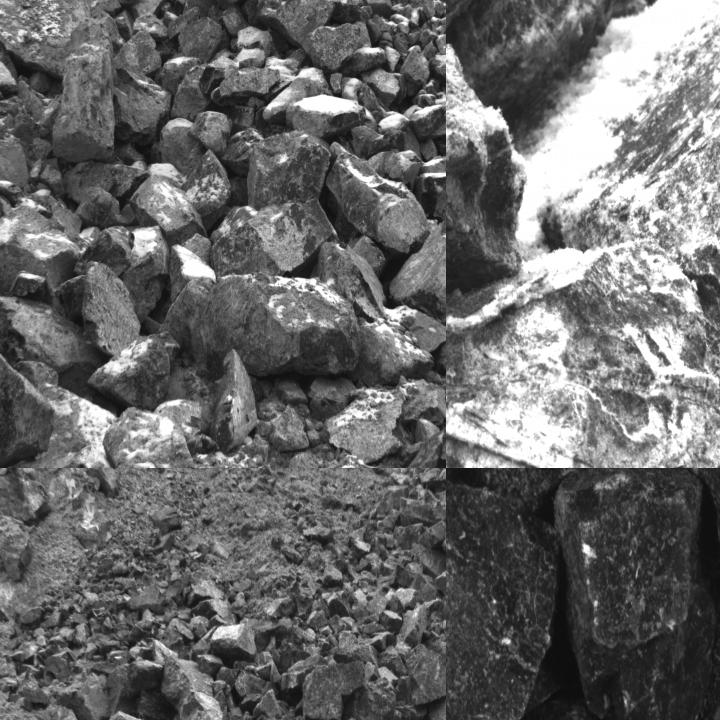stone: (544, 0, 719, 467), (446, 264, 719, 467), (552, 468, 717, 719), (446, 468, 561, 719), (446, 0, 531, 323), (446, 0, 645, 104), (159, 278, 361, 379), (0, 169, 56, 467), (325, 141, 430, 263), (52, 14, 124, 163), (211, 200, 335, 276), (0, 208, 83, 297), (84, 334, 178, 408), (247, 131, 332, 210), (446, 468, 596, 512), (388, 221, 445, 331), (82, 261, 140, 356), (131, 175, 207, 247), (206, 349, 259, 445), (446, 691, 610, 719), (302, 660, 376, 719), (160, 654, 227, 719), (114, 68, 170, 144), (171, 58, 237, 122), (285, 95, 376, 141), (184, 151, 231, 231), (256, 0, 335, 47), (264, 67, 330, 121), (306, 22, 373, 75), (63, 162, 148, 202), (75, 228, 134, 276), (54, 672, 114, 719), (166, 243, 214, 300), (160, 118, 205, 177), (115, 28, 167, 78), (404, 644, 445, 707), (214, 66, 282, 103), (348, 673, 400, 719), (76, 184, 125, 229), (179, 16, 229, 60), (210, 620, 257, 666), (367, 150, 420, 189), (280, 653, 329, 691), (192, 112, 232, 154), (394, 606, 424, 660), (327, 0, 392, 24), (411, 103, 445, 142), (401, 48, 430, 88), (126, 583, 164, 613), (234, 670, 276, 697), (130, 0, 181, 21), (133, 14, 169, 42), (137, 692, 174, 719), (392, 524, 426, 550), (0, 46, 18, 95), (253, 689, 282, 719), (17, 678, 47, 706), (327, 589, 352, 617), (265, 596, 296, 618), (394, 588, 423, 610), (196, 654, 223, 676), (431, 47, 445, 89), (321, 563, 343, 588), (49, 704, 82, 719), (380, 610, 401, 632)
